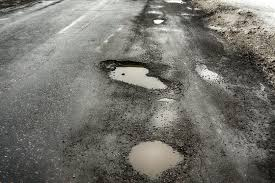potholes: (91, 49, 179, 102)
